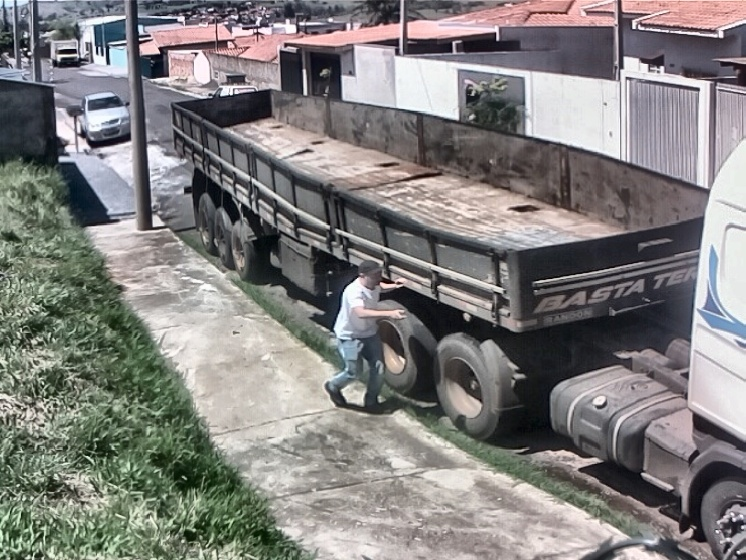person: (324, 257, 405, 417)
